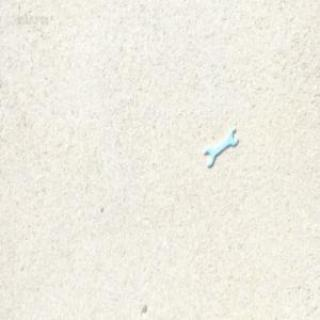Wrenchtrack_idkeyframe: (202, 128, 235, 166)
